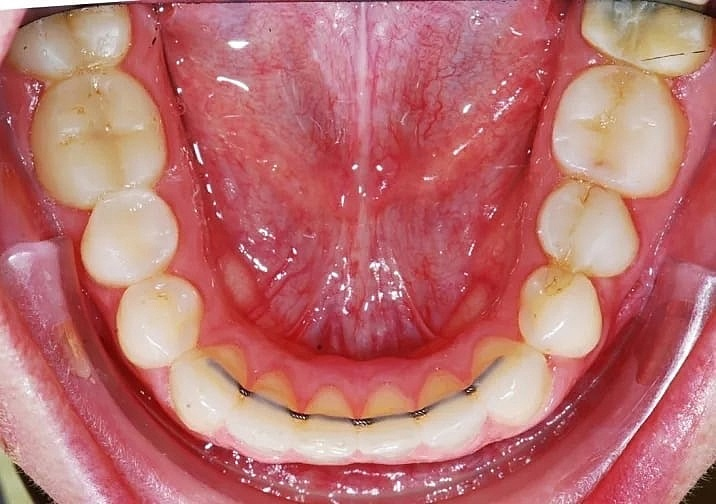LL1BC_healthy: (525, 264, 605, 358)
LL1M_healthy: (556, 69, 690, 186)
LL2BC_healthy: (536, 177, 634, 276)
LL2M_decay: (583, 1, 713, 77)
LLCI_decay: (360, 386, 420, 459)
LLC_decay: (474, 338, 551, 423)
LLLI_decay: (420, 373, 483, 441)
LR1BC_healthy: (116, 276, 203, 361)
LR1M_healthy: (41, 73, 167, 199)
LR2BC_healthy: (86, 193, 178, 279)
LR2M_healthy: (21, 13, 131, 70)
LRCI_decay: (296, 386, 361, 461)
LRC_decay: (180, 347, 242, 433)
LRLI_decay: (241, 372, 298, 455)
